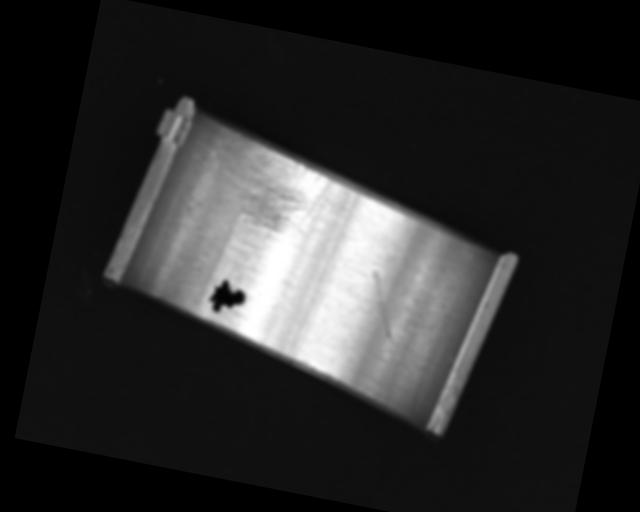blot: (205, 276, 248, 319)
nick: (292, 240, 339, 365), (359, 268, 407, 346)
scratch: (204, 128, 338, 252)
